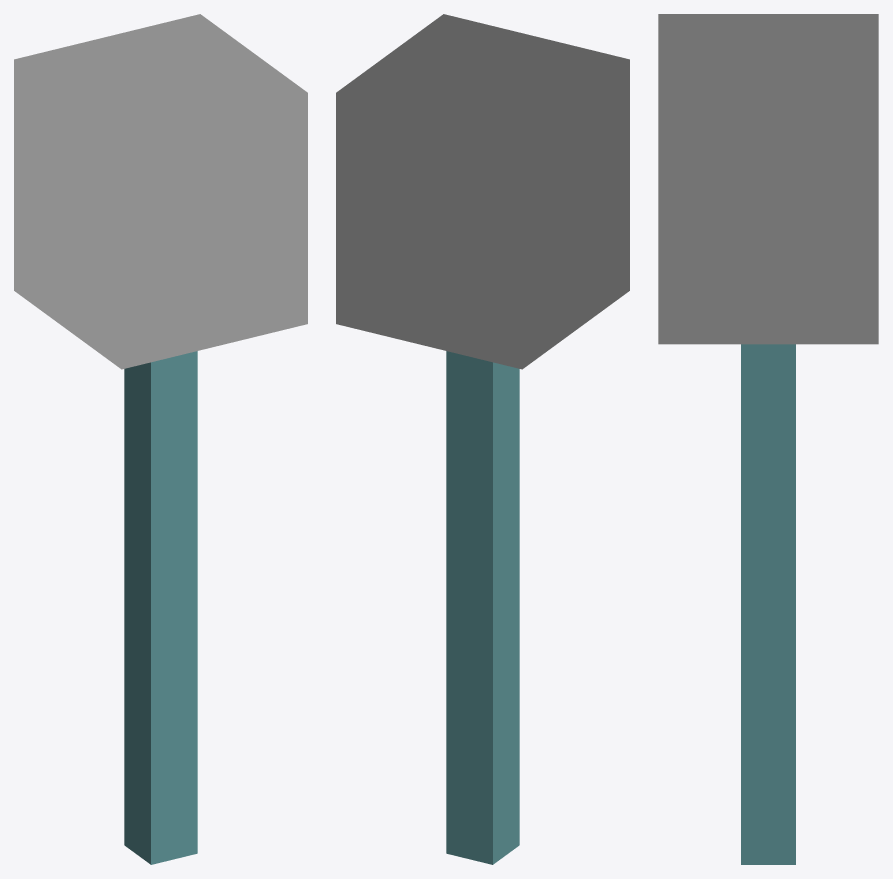
3 views of the same model, side by side, from view 1: azimuth 30°, elevation 25°; view 2: azimuth 150°, elevation 25°; view 3: azimuth 270°, elevation 25° (orthographic). The views are drawn at different scales.
Visible parts, largest first — view 1: 01_polygon0, 00_polygon1; view 2: 01_polygon0, 00_polygon1; view 3: 01_polygon0, 00_polygon1.
Boxes of the visible parts, box(x1,y1,x2,y2) form: 01_polygon0: box(14, 14, 307, 369); 00_polygon1: box(124, 351, 197, 864); 01_polygon0: box(336, 14, 629, 369); 00_polygon1: box(446, 351, 519, 864); 01_polygon0: box(658, 14, 878, 344); 00_polygon1: box(741, 344, 795, 864).
Size of the model in its own units: 0.125 by 0.4961 by 0.125.
